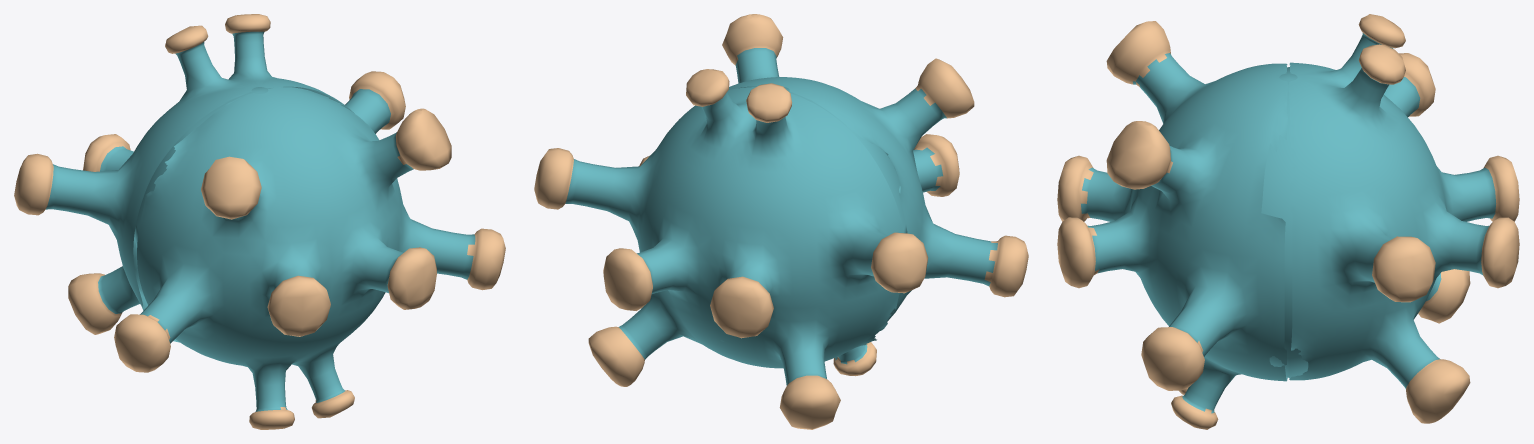
File: lilcovid4.fbx
The picture shows the model from 3 angles, left to right: view 1: azimuth 30°, elevation 25°; view 2: azimuth 150°, elevation 25°; view 3: azimuth 270°, elevation 25°; orthographic projection. The views are drawn at different scales.
Parts seen in each view (by area): view 1: Sphere.011; view 2: Sphere.011; view 3: Sphere.011.
Part boxes in pixels (bbox=[...]): Sphere.011: bbox=[14, 14, 505, 429]; Sphere.011: bbox=[534, 14, 1028, 429]; Sphere.011: bbox=[1057, 14, 1519, 429].
Bounding box in the file's own units: 621 × 531 × 589.
